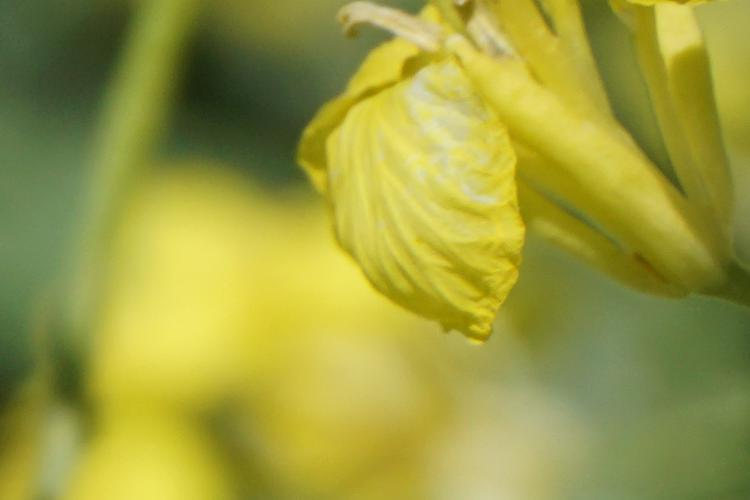yellow: (324, 22, 750, 338)
